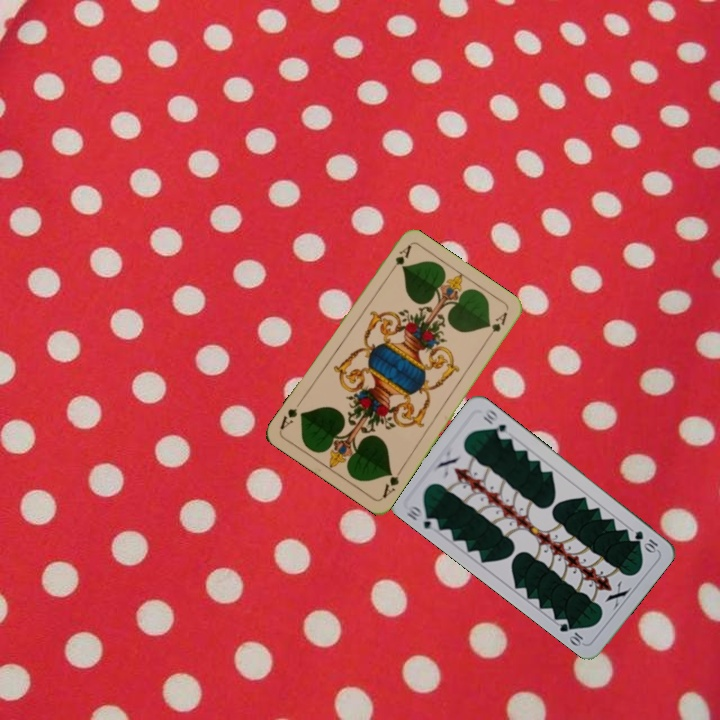G10: (403, 501, 441, 534), (630, 526, 661, 555)
GA: (385, 241, 414, 277), (378, 464, 405, 501)
